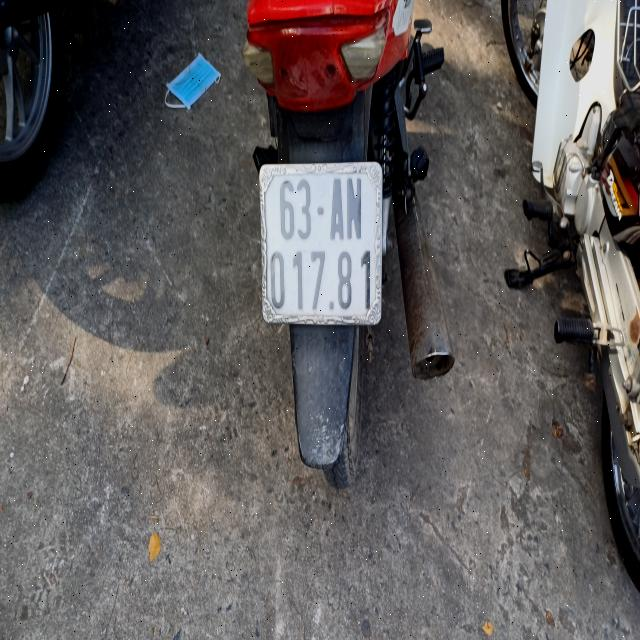0: (270, 251, 285, 310)
1: (292, 250, 304, 310), (361, 251, 372, 312)
3: (296, 178, 312, 242)
6: (279, 180, 295, 242)
7: (311, 250, 326, 310)
8: (338, 253, 352, 311)
A: (330, 178, 344, 243)
N: (347, 177, 361, 242)
